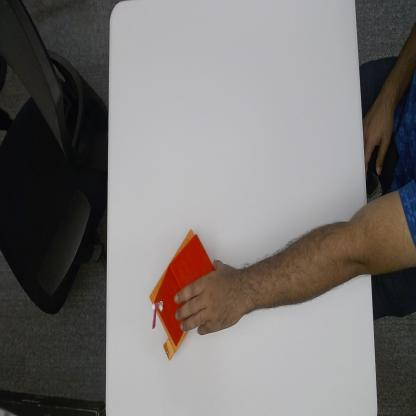Arm: (251, 209, 370, 313)
Hand: (182, 256, 250, 338)
House: (152, 230, 210, 352)
